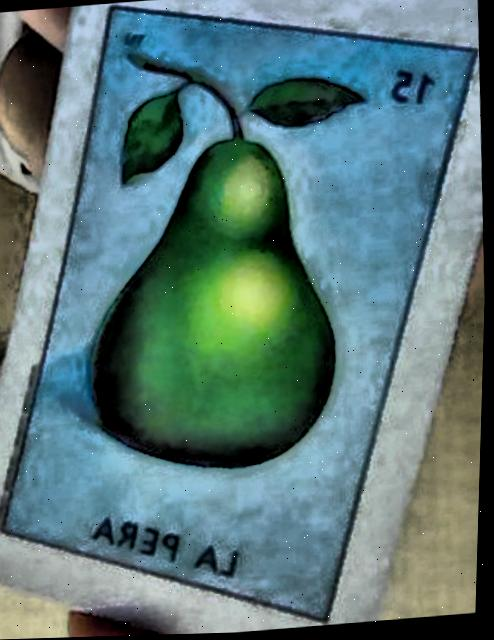La Pera: (6, 9, 476, 622)
